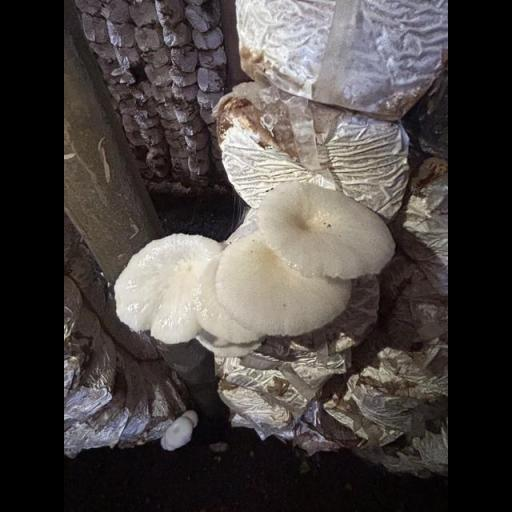White Oyster Mushroom: (114, 173, 392, 345), (162, 409, 199, 450)
